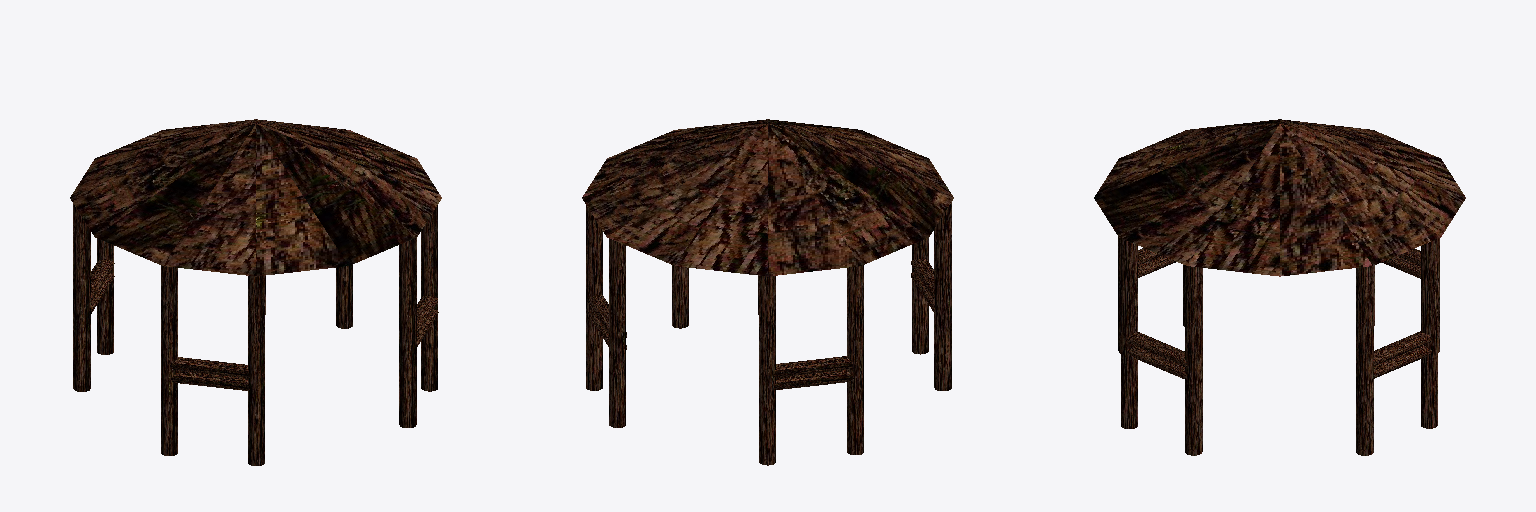
The picture shows the model from 3 angles: view 1: azimuth 30°, elevation 25°; view 2: azimuth 150°, elevation 25°; view 3: azimuth 270°, elevation 25°; orthographic projection.
Visible parts, largest first — view 1: Cone, Cylinder42, Cylinder43, Cylinder48, Cylinder49, Cylinder46, Cylinder44, Cylinder47, Cylinder51, Cylinder50; view 2: Cone, Cylinder44, Cylinder45, Cylinder49, Cylinder48, Cylinder47, Cylinder43, Cylinder53, Cylinder46, Cylinder52; view 3: Cone, Cylinder47, Cylinder46, Cylinder45, Cylinder42, Cylinder55, Cylinder57, Cylinder54, Cylinder56.
Boxes of the visible parts, <box> form: Cone: <box>70,119,441,276</box>; Cylinder42: <box>399,238,416,427</box>; Cylinder43: <box>248,276,264,465</box>; Cylinder48: <box>73,204,90,391</box>; Cylinder49: <box>161,265,177,455</box>; Cylinder46: <box>421,205,437,391</box>; Cylinder44: <box>97,238,113,354</box>; Cylinder47: <box>336,265,352,328</box>; Cylinder51: <box>171,357,249,378</box>; Cylinder50: <box>171,371,249,390</box>; Cone: <box>582,119,953,276</box>; Cylinder44: <box>759,276,775,465</box>; Cylinder45: <box>609,238,625,427</box>; Cylinder49: <box>934,202,951,390</box>; Cylinder48: <box>847,265,863,454</box>; Cylinder47: <box>586,205,602,390</box>; Cylinder43: <box>912,238,928,354</box>; Cylinder53: <box>774,356,852,377</box>; Cylinder46: <box>672,265,688,328</box>; Cylinder52: <box>774,370,853,389</box>; Cone: <box>1094,119,1465,276</box>; Cylinder47: <box>1356,266,1373,455</box>; Cylinder46: <box>1185,265,1202,455</box>; Cylinder45: <box>1421,239,1437,428</box>; Cylinder42: <box>1121,238,1137,428</box>; Cylinder55: <box>1126,332,1186,366</box>; Cylinder57: <box>1373,331,1431,365</box>; Cylinder54: <box>1126,346,1186,379</box>; Cylinder56: <box>1373,345,1431,378</box>.
Size of the model in its own units: 4.54 by 3.56 by 4.54.
Materials: 1 (1 with a texture image).